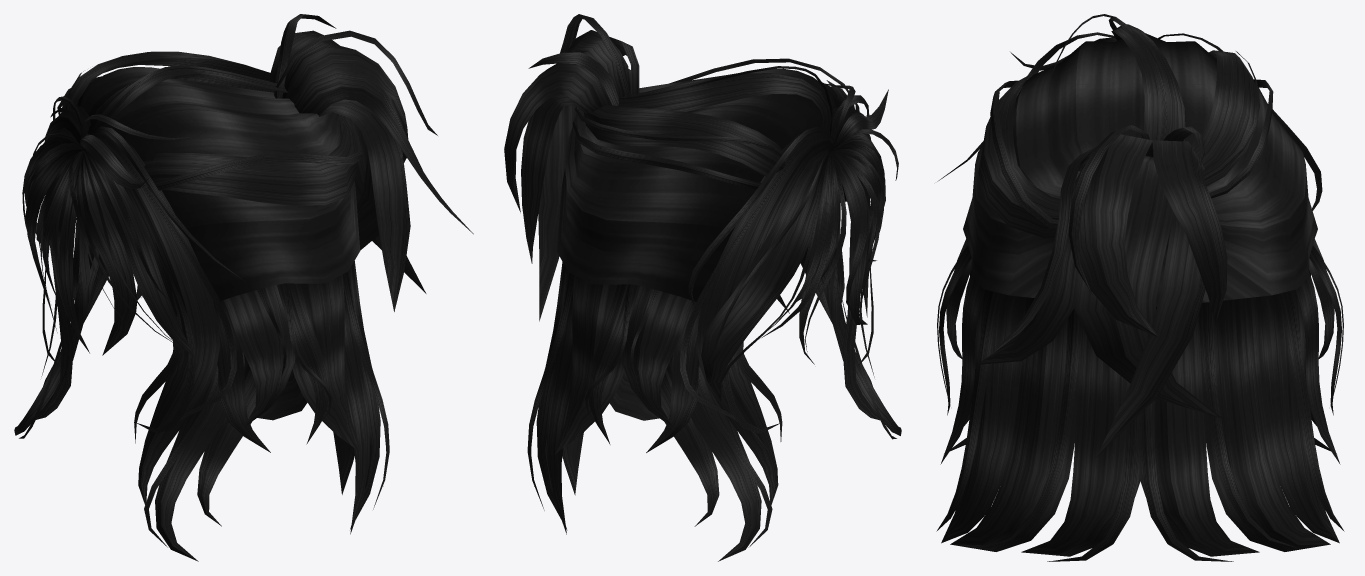
The picture shows the model from 3 angles, left to right: view 1: azimuth 30°, elevation 25°; view 2: azimuth 150°, elevation 25°; view 3: azimuth 270°, elevation 25°; orthographic projection. The views are drawn at different scales.
Visible parts, largest first — view 1: geometry_0; view 2: geometry_0; view 3: geometry_0.
Boxes of the visible parts, left/top/right/bottom form: geometry_0: left=14, top=14, right=473, bottom=561; geometry_0: left=504, top=14, right=901, bottom=561; geometry_0: left=936, top=14, right=1344, bottom=561.
Bounding box in the file's own units: 1.91 × 2.11 × 1.75.
1 material, 1 textured.
